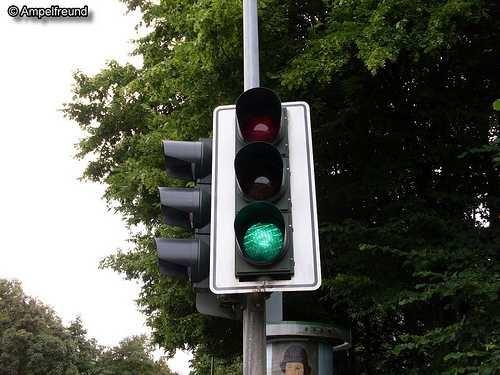green: (210, 91, 322, 290), (230, 209, 294, 273)
